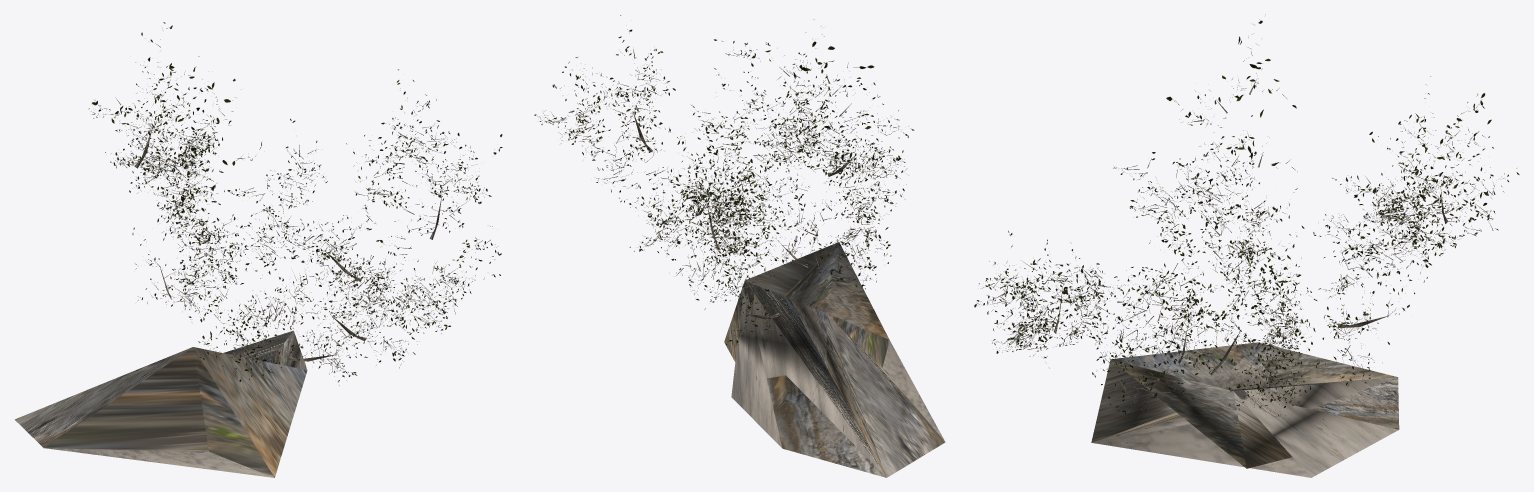
Rendered from island_tree_03_full.glb.
The picture shows the model from 3 angles, left to right: view 1: azimuth 30°, elevation 25°; view 2: azimuth 150°, elevation 25°; view 3: azimuth 270°, elevation 25°; orthographic projection. The views are drawn at different scales.
Parts seen in each view (by area): view 1: island_tree_03_full; view 2: island_tree_03_full; view 3: island_tree_03_full.
Part boxes in pixels (left/top/right/bottom): island_tree_03_full: left=14, top=22, right=502, bottom=477; island_tree_03_full: left=534, top=15, right=945, bottom=477; island_tree_03_full: left=974, top=14, right=1519, bottom=477.
Bounding box in the file's own units: 2.92 × 2.55 × 2.89.
3 materials, 3 textured.
